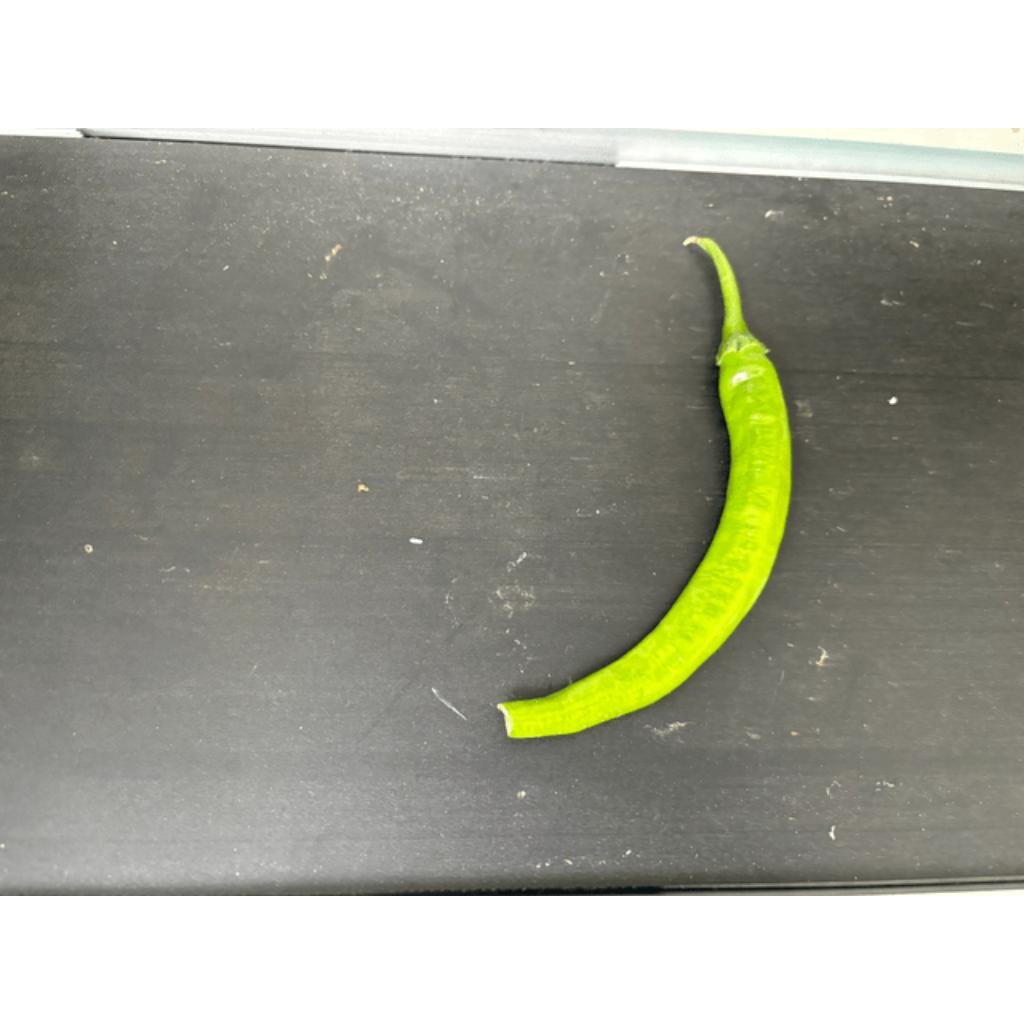chili: (489, 331, 795, 742)
